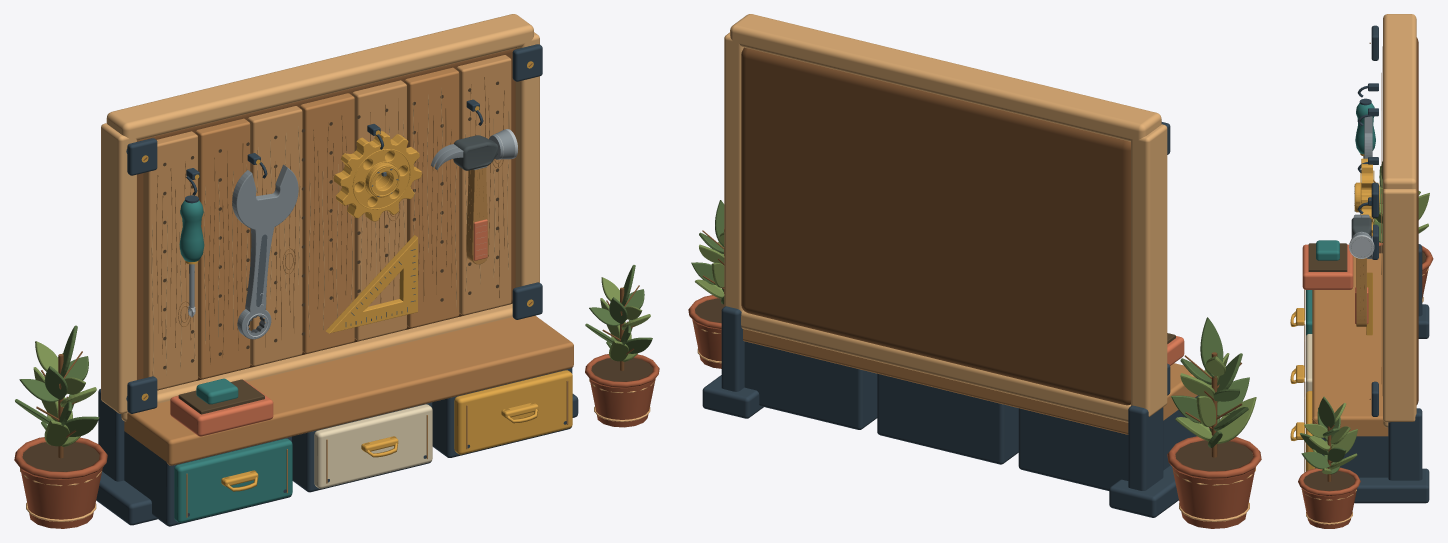
Rendered from workshop-tool-rack-final.glb.
3 views of the same model, side by side, from view 1: azimuth 30°, elevation 25°; view 2: azimuth 150°, elevation 25°; view 3: azimuth 270°, elevation 25° (orthographic). The views are drawn at different scales.
Parts seen in each view (by area): view 1: timber, plank, edge, brass (×3), navy, pot (×2), teal, cream, grain, steel, darkWood, grainLight (+6 smaller); view 2: darkWood, edge, navy, pot (×2), timber, soil, Leaf_8, Leaf_1; view 3: edge, timber, navy, pot (×2), brass (×3), coral, darkWood, teal, soil, Wood_Handle, shadow, Teal_Handle (+13 smaller).
Boxes of the visible parts, <box> form: timber: <box>124,67,573,465</box>; plank: <box>143,55,511,389</box>; edge: <box>101,14,539,421</box>; brass (×3): <box>141,61,572,491</box>; navy: <box>96,44,578,526</box>; pot (×2): <box>14,354,659,528</box>; teal: <box>174,378,292,522</box>; cream: <box>314,404,432,488</box>; grain: <box>156,77,568,517</box>; steel: <box>232,164,298,339</box>; darkWood: <box>137,48,532,398</box>; grainLight: <box>151,88,509,375</box>; darkWood: <box>741,47,1130,405</box>; edge: <box>724,14,1167,422</box>; navy: <box>702,122,1199,517</box>; pot (×2): <box>688,295,1261,528</box>; timber: <box>743,329,1197,434</box>; soil: <box>1175,440,1253,471</box>; Leaf_8: <box>1200,317,1223,377</box>; Leaf_1: <box>1217,397,1256,443</box>; edge: <box>1383,14,1416,427</box>; timber: <box>1312,68,1388,436</box>; navy: <box>1315,25,1429,503</box>; pot (×2): <box>1298,242,1433,528</box>; brass (×3): <box>1290,158,1379,471</box>; coral: <box>1302,244,1353,289</box>; darkWood: <box>1369,37,1418,404</box>; teal: <box>1306,240,1339,335</box>; soil: <box>1303,470,1355,490</box>; Wood_Handle: <box>1356,258,1366,326</box>; shadow: <box>1308,243,1347,271</box>; Teal_Handle: <box>1355,103,1375,154</box>.
Bounding box in the file's own units: 2.04 × 1.25 × 0.5082.
